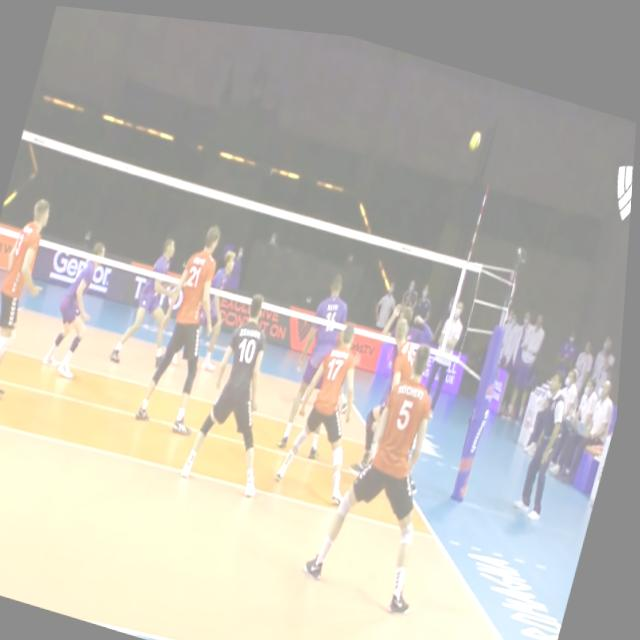player: (311, 314, 476, 607), (188, 278, 307, 499), (141, 208, 246, 436), (278, 305, 389, 505), (284, 261, 370, 454), (360, 301, 452, 467), (0, 190, 64, 410), (116, 228, 198, 373), (45, 228, 115, 385), (190, 237, 248, 371)
